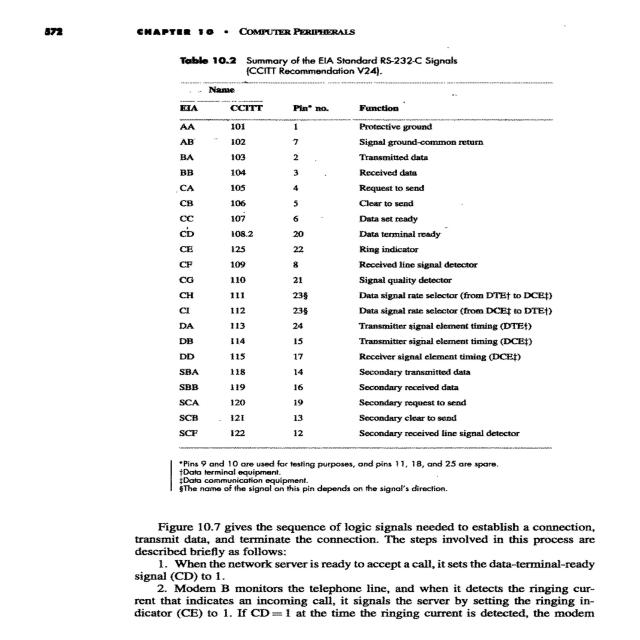diagram: (96, 40, 600, 499)
